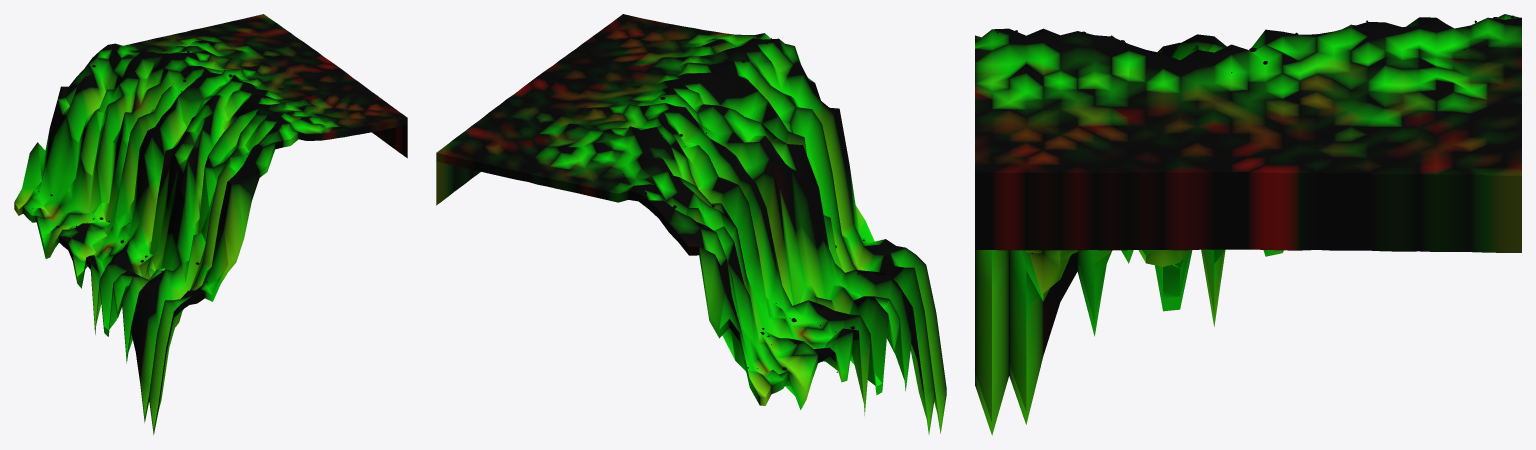
The model's file is Terrain_03_00.fbx.
3 renders of one model, left to right at view 1: azimuth 30°, elevation 25°; view 2: azimuth 150°, elevation 25°; view 3: azimuth 270°, elevation 25°, orthographic. The views are drawn at different scales.
Parts seen in each view (by area): view 1: Terrain_03_00_LOD0; view 2: Terrain_03_00_LOD0; view 3: Terrain_03_00_LOD0.
Part boxes in pixels (x1,y1,x2,y2): Terrain_03_00_LOD0: (14,14,407,435); Terrain_03_00_LOD0: (436,14,946,434); Terrain_03_00_LOD0: (975,14,1521,435).
Size of what is drawn, in the model's own units: 384 by 409 by 384.
